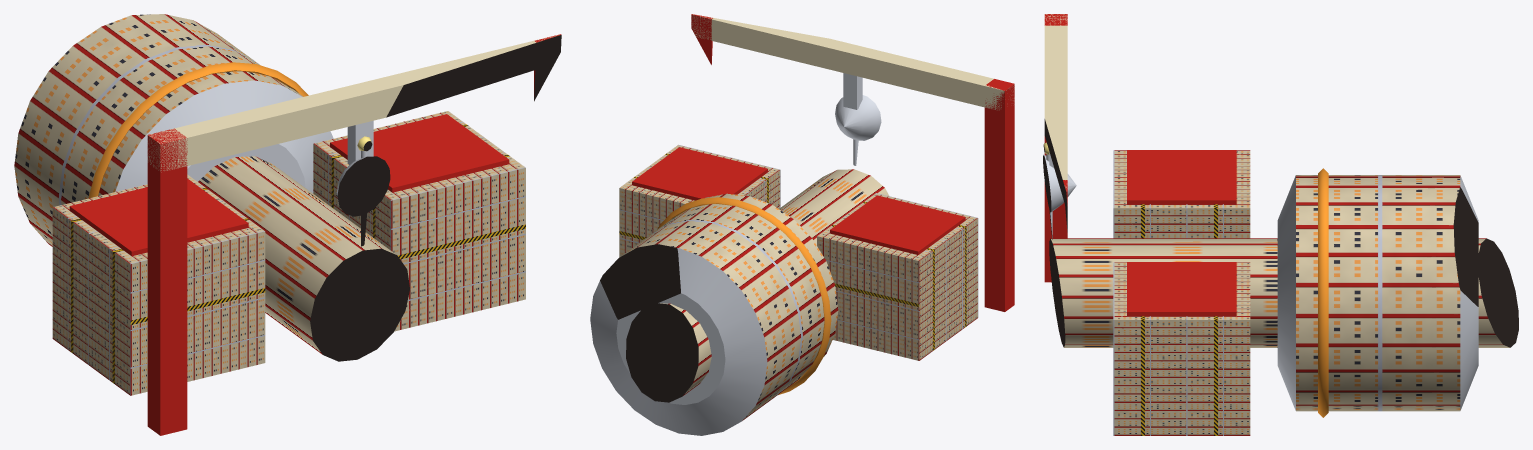
The model's file is manufacturing_center_debris2.obj.
The picture shows the model from 3 angles, left to right: view 1: azimuth 30°, elevation 25°; view 2: azimuth 150°, elevation 25°; view 3: azimuth 270°, elevation 25°; orthographic projection. The views are drawn at different scales.
Visible parts, largest first — view 1: cargo_bay, smelter2, spine, gantry_beam, gantry_leg, bay_door, furnace_glow, rocket_in_build, gantry_hook; view 2: smelter2, cargo_bay, spine, bay_door, gantry_beam, gantry_leg, furnace_glow, rocket_in_build, gantry_hook; view 3: smelter2, cargo_bay, spine, bay_door, gantry_beam, furnace_glow, gantry_leg, rocket_in_build.
Boxes of the visible parts, x1,y1,x2,y2 form: cargo_bay: (52, 111, 525, 395); smelter2: (14, 14, 333, 246); spine: (198, 156, 409, 361); gantry_beam: (147, 35, 560, 172); gantry_leg: (147, 34, 561, 435); bay_door: (69, 114, 509, 256); furnace_glow: (88, 62, 308, 198); rocket_in_build: (336, 156, 390, 216); gantry_hook: (347, 120, 373, 164); smelter2: (590, 193, 838, 435); cargo_bay: (619, 144, 978, 360); spine: (626, 169, 889, 402); bay_door: (632, 147, 965, 254); gantry_beam: (691, 14, 1014, 110); gantry_leg: (691, 14, 1014, 311); furnace_glow: (657, 197, 831, 394); rocket_in_build: (835, 95, 881, 140); gantry_hook: (843, 73, 862, 109); smelter2: (1277, 175, 1478, 411); cargo_bay: (1113, 150, 1250, 435); spine: (1049, 238, 1518, 347); bay_door: (1127, 150, 1236, 316); gantry_beam: (1044, 14, 1067, 203); furnace_glow: (1318, 168, 1328, 417); gantry_leg: (1044, 14, 1067, 282); rocket_in_build: (1043, 155, 1076, 212).
Size of the model in its own units: 92 by 73.4 by 104.
Materials: 7 (1 with a texture image).
